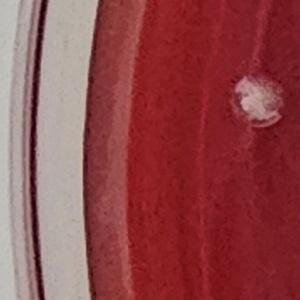colony: (226, 69, 291, 132)
